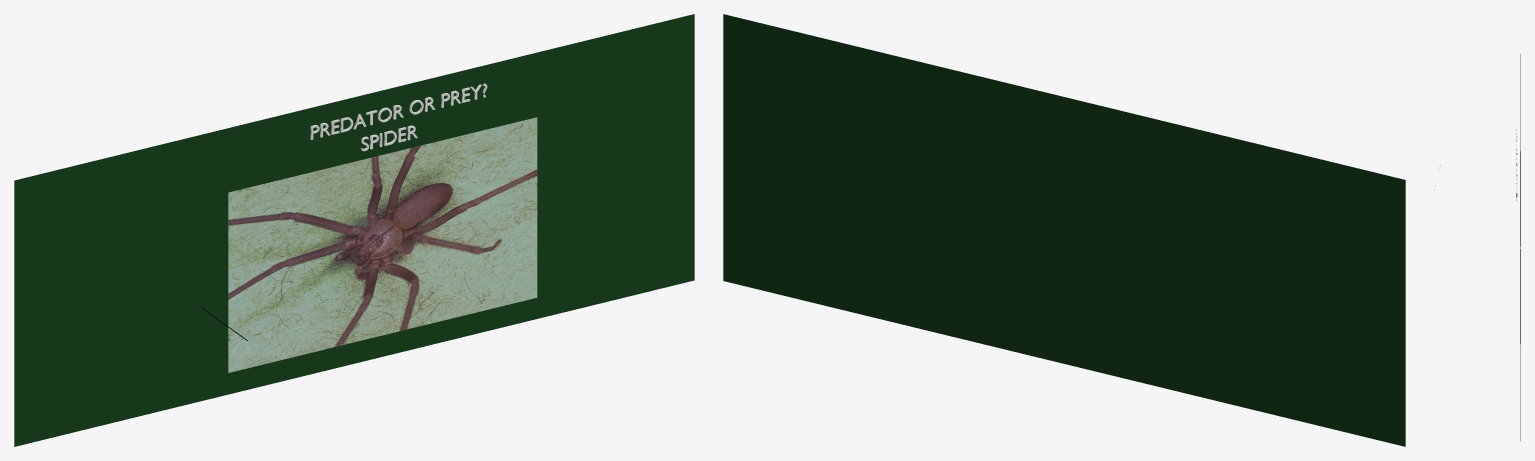
Rendered from spider.gltf.
The picture shows the model from 3 angles, left to right: view 1: azimuth 30°, elevation 25°; view 2: azimuth 150°, elevation 25°; view 3: azimuth 270°, elevation 25°; orthographic projection. The views are drawn at different scales.
Visible parts, largest first — view 1: Plane.013, Plane, Text.008; view 2: Plane.013; view 3: Plane.013, Text.008.
Boxes of the visible parts, x1,y1,x2,y2 form: Plane.013: (14, 14, 694, 446); Plane: (228, 117, 537, 372); Text.008: (310, 83, 487, 139); Plane.013: (723, 14, 1405, 446); Plane.013: (1520, 54, 1520, 441); Text.008: (1516, 129, 1517, 200).
Size of the model in its own units: 15.94 by 5.96 by 2.43.
5 materials, 1 textured.
